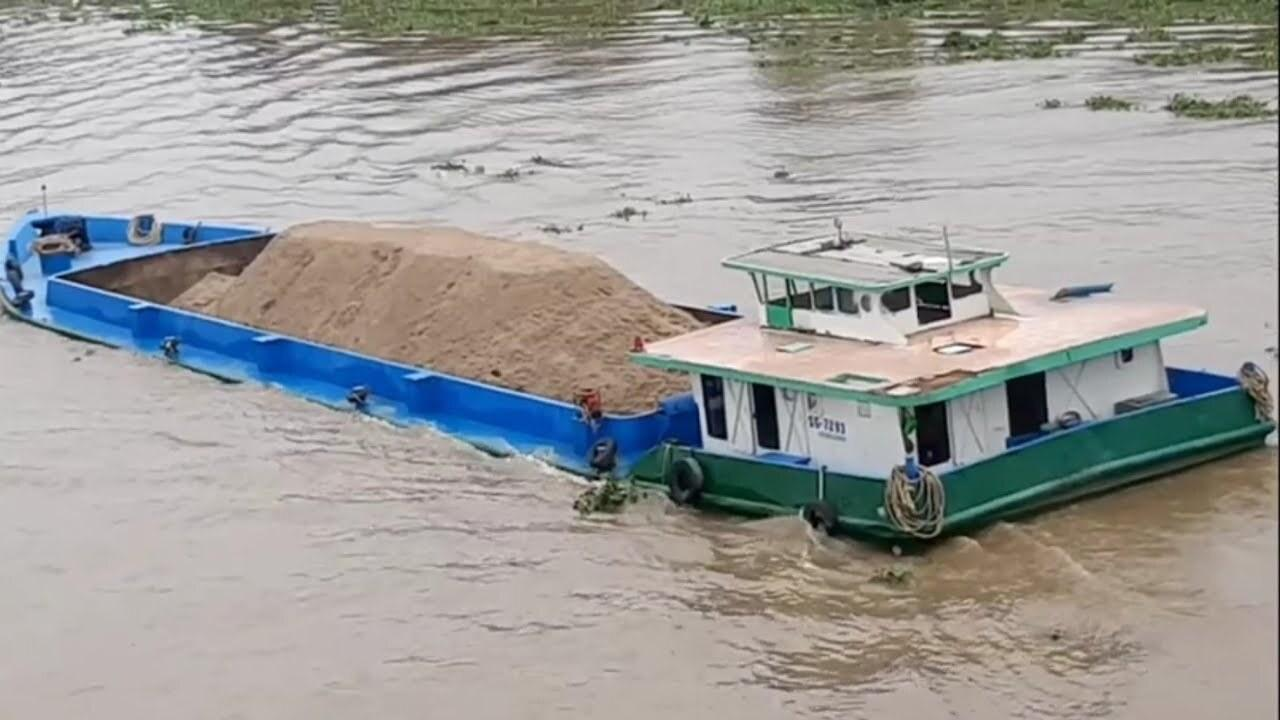Ship: (4, 200, 1280, 581)
